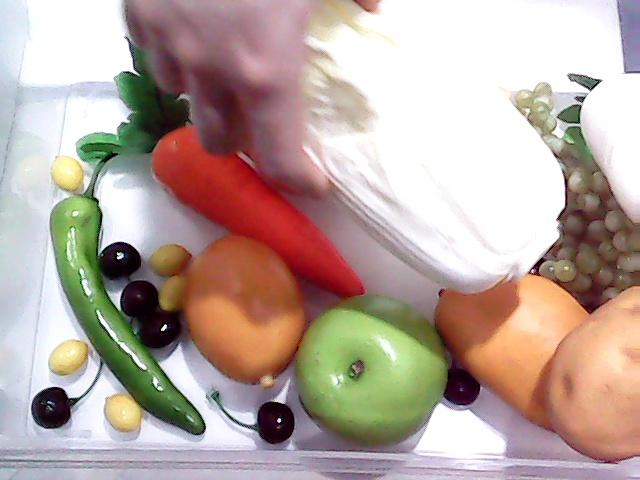apple: (292, 293, 448, 447)
carrot: (75, 38, 368, 302)
grape: (536, 130, 640, 290)
lemon: (180, 226, 332, 394)
mango: (431, 268, 591, 436)
napa cabbage: (300, 0, 568, 294)
pepper: (40, 147, 212, 437)
potato: (544, 283, 640, 465)
radish: (558, 70, 640, 226)
